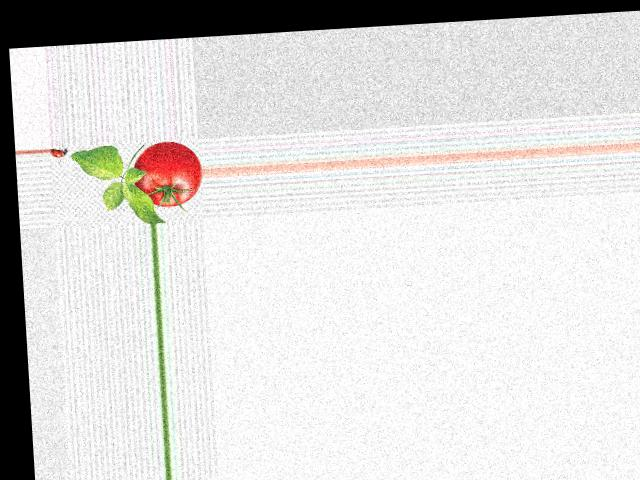tomato: (132, 139, 203, 208)
